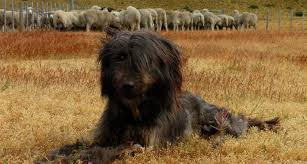dog: (47, 20, 278, 164)
